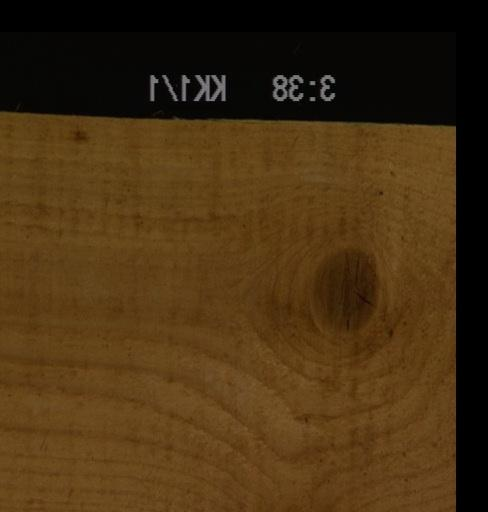sound_knot: (309, 245, 382, 335)
